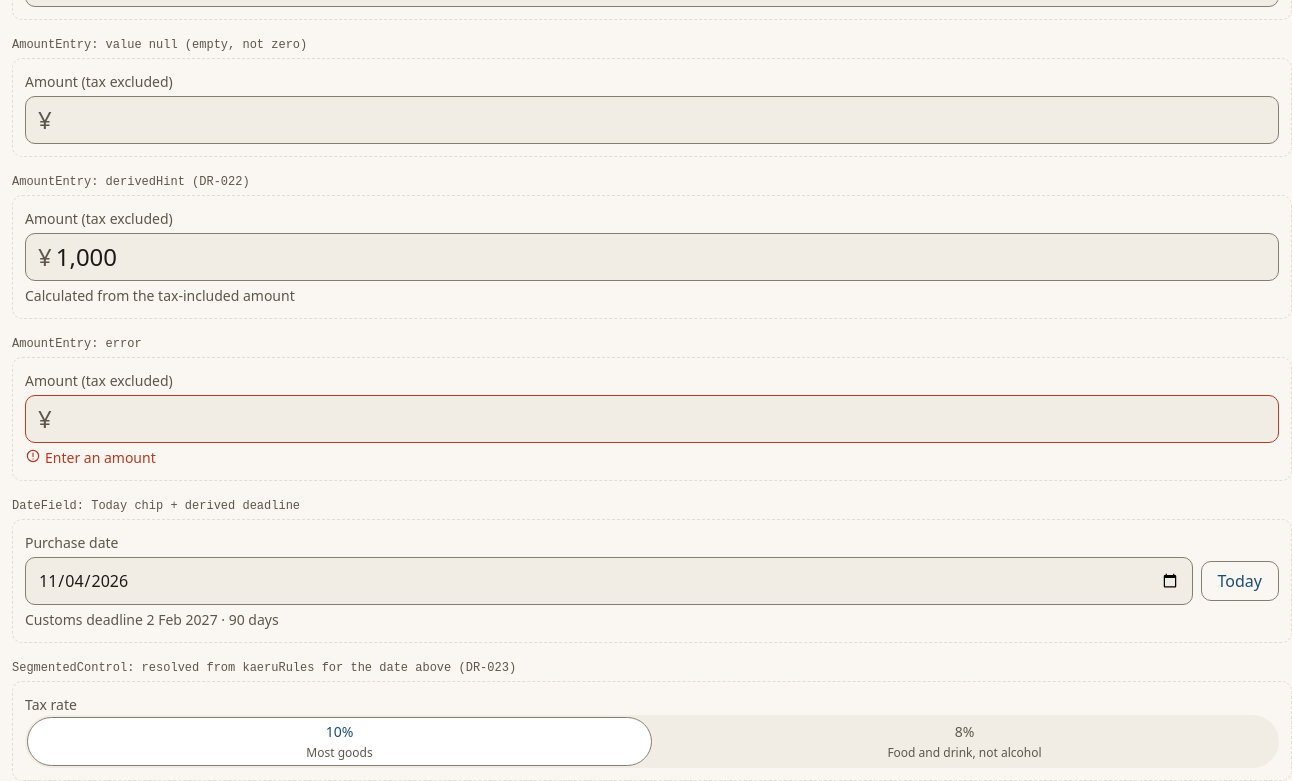
Scenario: FormsSection tax rate specimen › resolves a different rate set when the purchase date moves into another dated window
(page scrolled)
Expected: the text "10%" is shown, x1=326 y1=721 x2=353 y2=742
Expected: the text "8%" is shown, x1=955 y1=721 x2=974 y2=742
// 2027-06-01 falls in the three-rate window (10%, 1% food, 8% newspapers, UR-08).
In the date field labelled "Purchase date": {"x": 609, "y": 581} x1=25 y1=557 x2=1193 y2=605, type "2027-06-01"
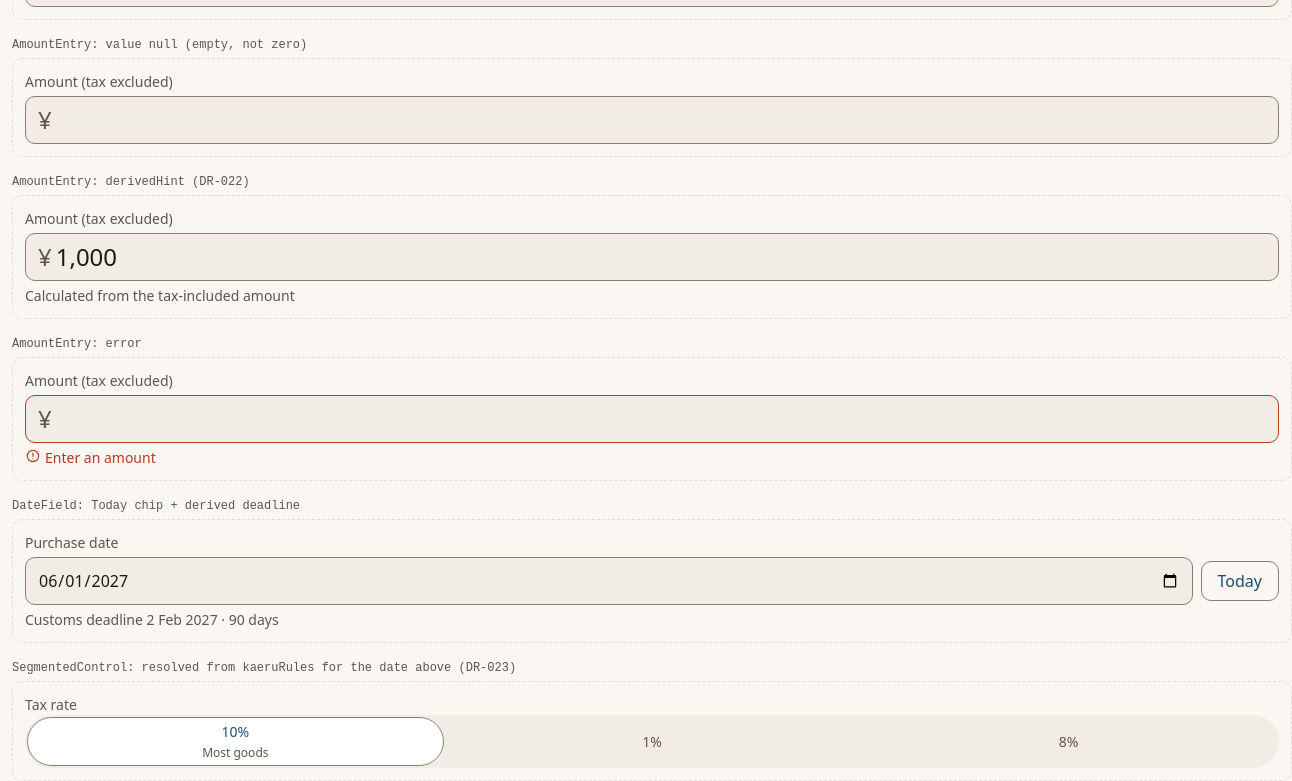
Expected: the text "10%" is shown, x1=222 y1=721 x2=249 y2=742
Expected: the text "1%" is shown, x1=642 y1=731 x2=662 y2=752
